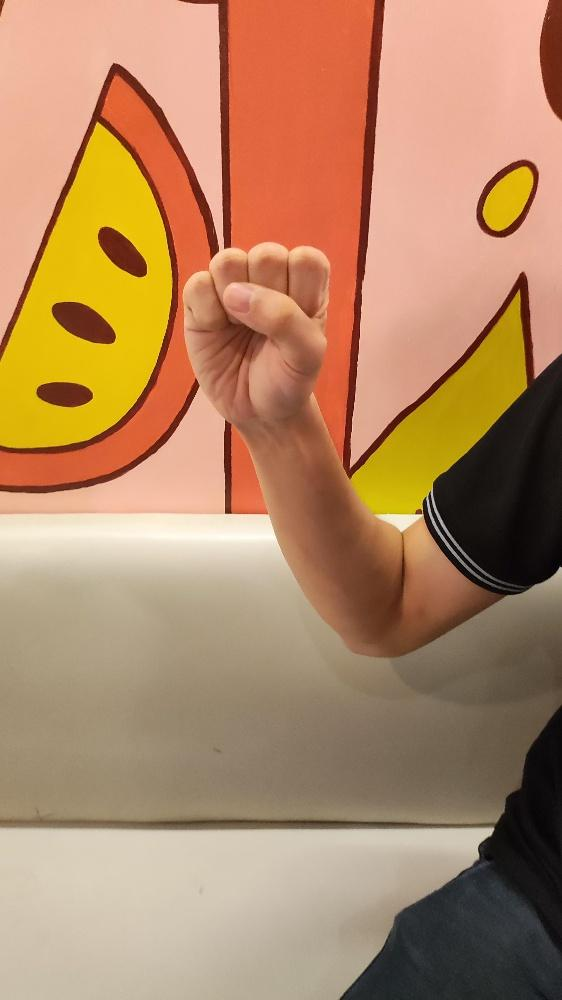s: (181, 238, 330, 428)
